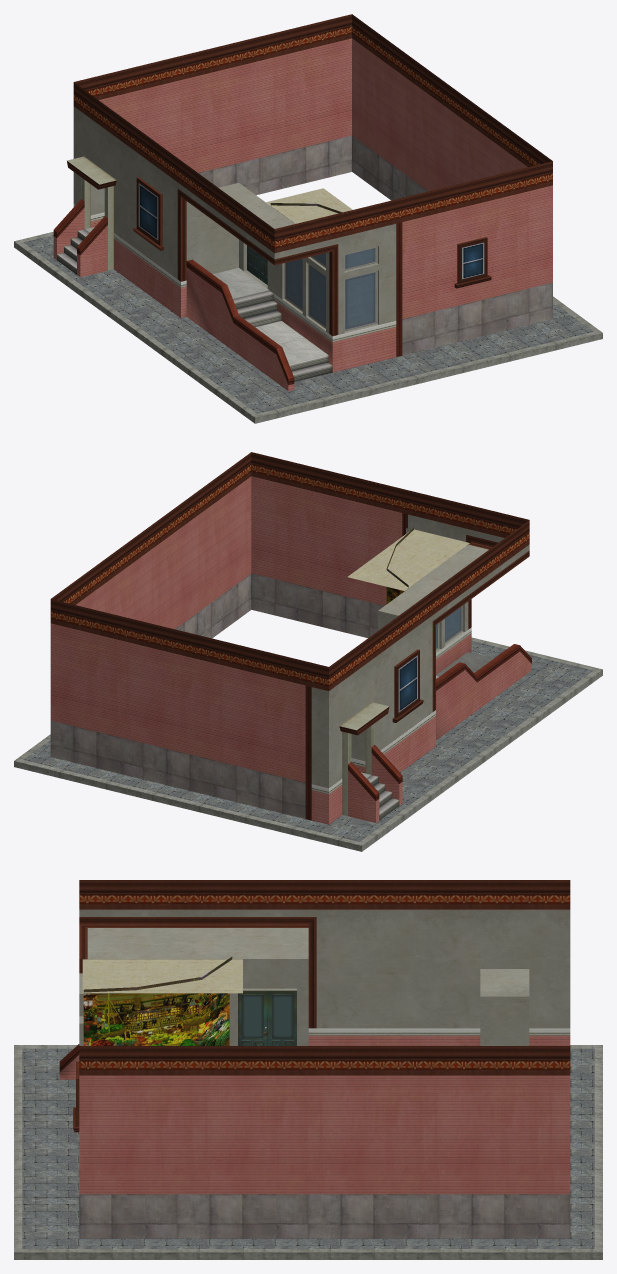
Rendered from MhouseB_Base_00.fbx.
3 renders of one model, top to bottom at view 1: azimuth 30°, elevation 25°; view 2: azimuth 150°, elevation 25°; view 3: azimuth 270°, elevation 25°, orthographic. The views are drawn at different scales.
Visible parts, largest first — view 1: ct2_04_n1_ks2_MhouseBaseB00_05; view 2: ct2_04_n1_ks2_MhouseBaseB00_05; view 3: ct2_04_n1_ks2_MhouseBaseB00_05.
Boxes of the visible parts, <box> form: ct2_04_n1_ks2_MhouseBaseB00_05: <box>14,14,602,423</box>; ct2_04_n1_ks2_MhouseBaseB00_05: <box>14,452,602,851</box>; ct2_04_n1_ks2_MhouseBaseB00_05: <box>14,880,602,1259</box>.
Bounding box in the file's own units: 1898 × 854 × 2277.
